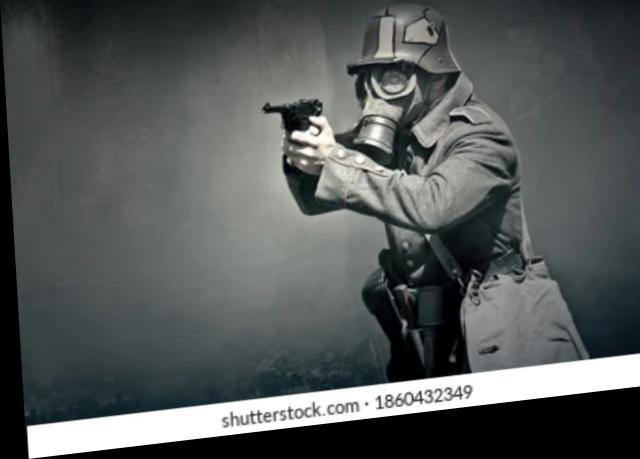other: (281, 5, 525, 389)
